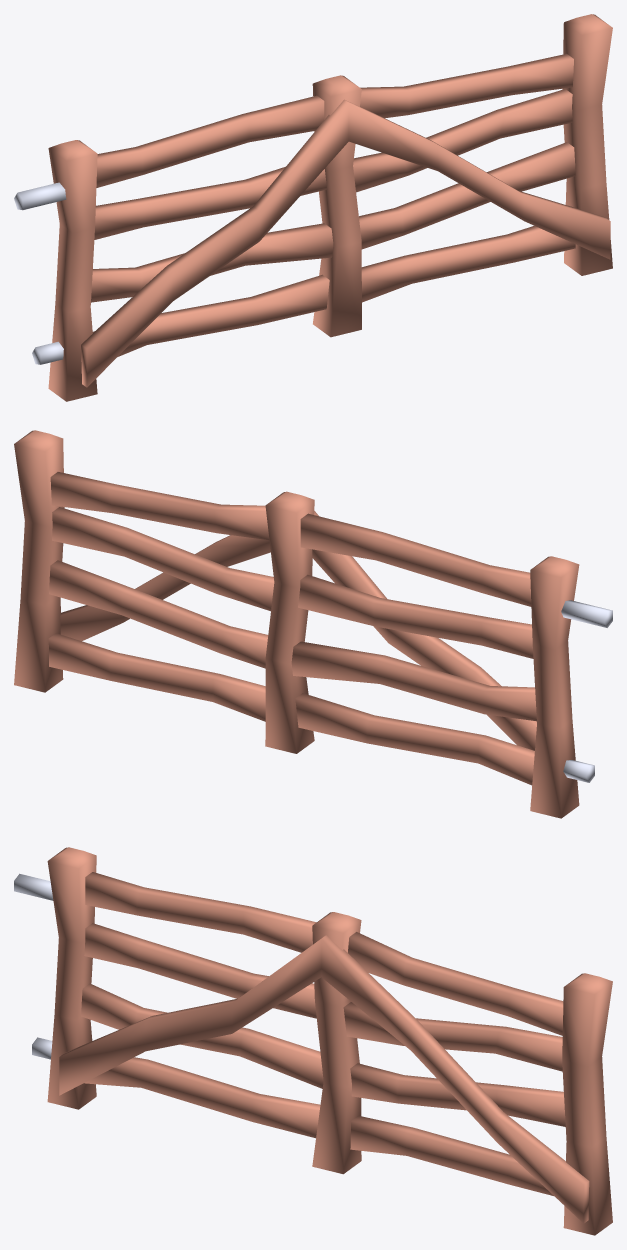
File: Fence_Gate_2.fbx
The picture shows the model from 3 angles, top to bottom: view 1: azimuth 30°, elevation 25°; view 2: azimuth 150°, elevation 25°; view 3: azimuth 330°, elevation 25°; orthographic projection.
Parts seen in each view (by area): view 1: fence_gate; view 2: fence_gate; view 3: fence_gate.
Part boxes in pixels (x1,y1,x2,y2): fence_gate: (14, 14, 612, 401); fence_gate: (14, 430, 612, 818); fence_gate: (14, 847, 612, 1235).
Size of the model in its own units: 427 by 172 by 28.3.
